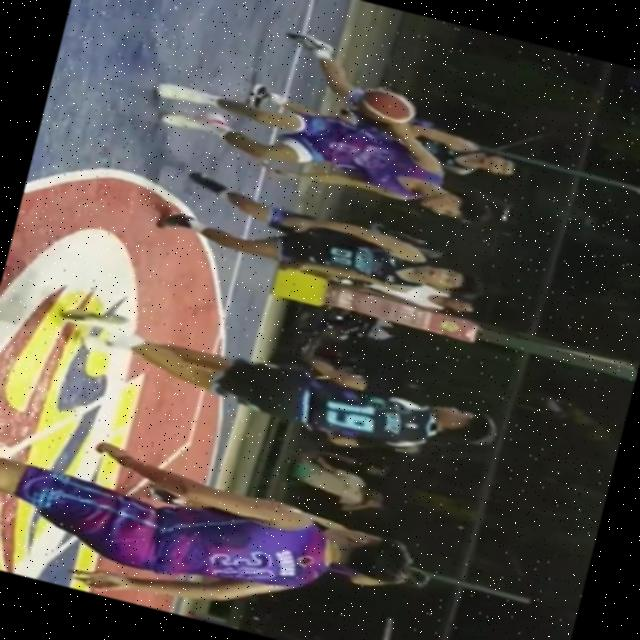ball: (341, 76, 422, 132)
